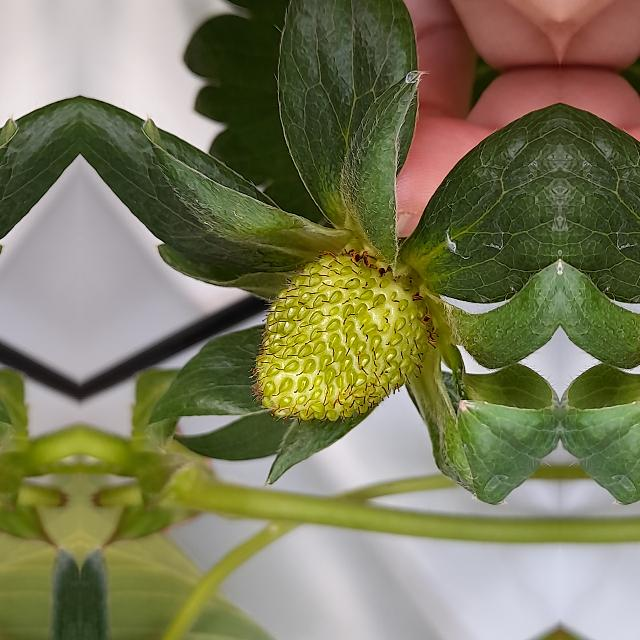Health_25: (247, 248, 438, 426)
